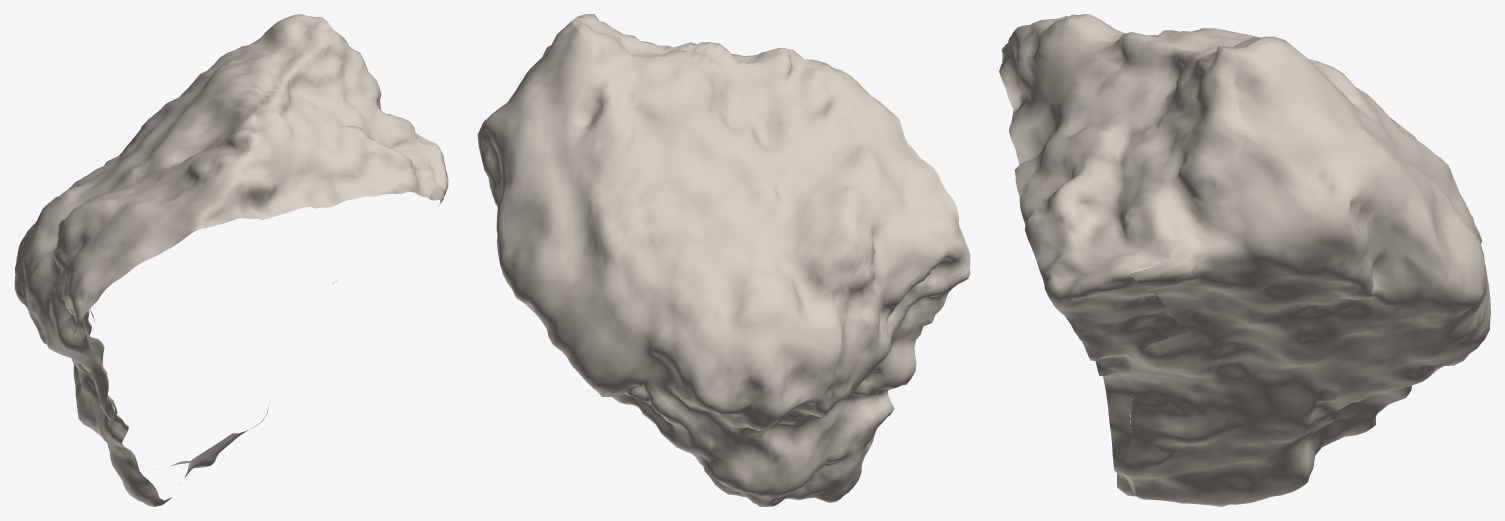
Rendered from gray-big-rock_cand04.glb.
3 views of the same model, side by side, from view 1: azimuth 30°, elevation 25°; view 2: azimuth 150°, elevation 25°; view 3: azimuth 270°, elevation 25° (orthographic). The views are drawn at different scales.
Parts seen in each view (by area): view 1: world; view 2: world; view 3: world.
Part boxes in pixels (<box>): world: <box>14,14,448,506</box>; world: <box>477,14,970,506</box>; world: <box>999,14,1490,506</box>.
Size of the model in its own units: 1.57 by 1.63 by 1.23.
